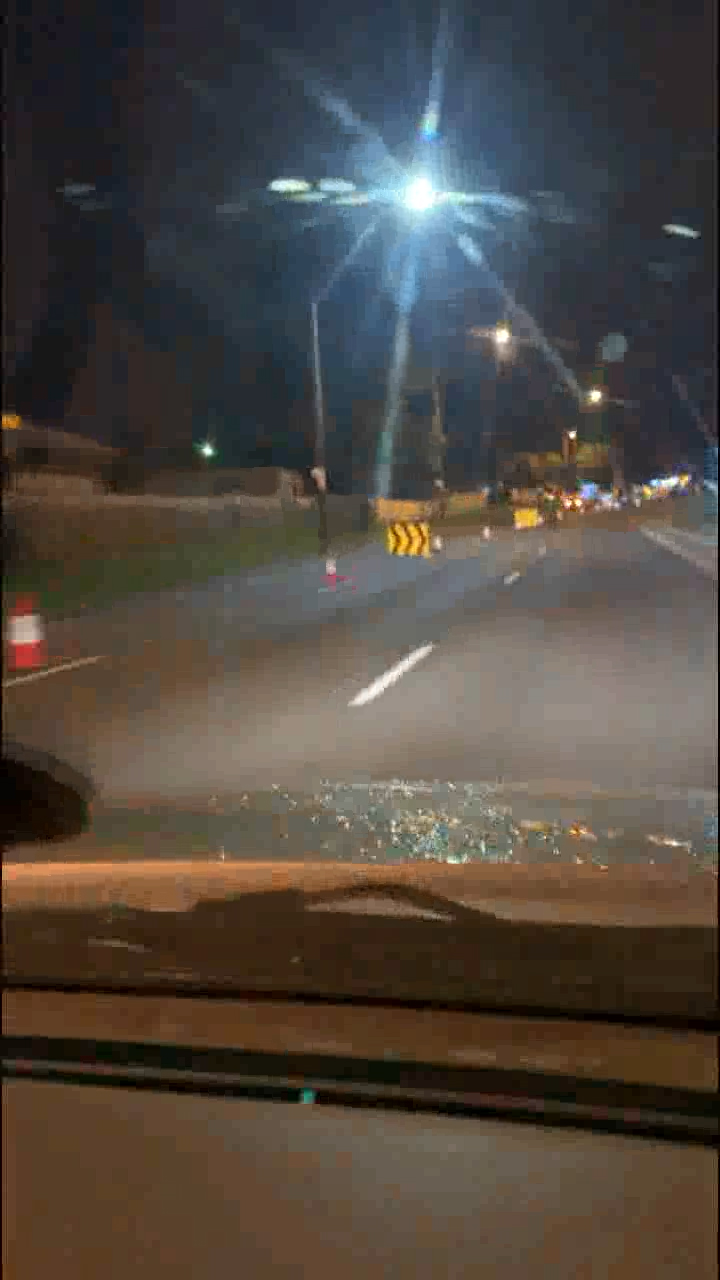road cone: (14, 602, 52, 667)
road works sign board: (387, 525, 431, 561)
